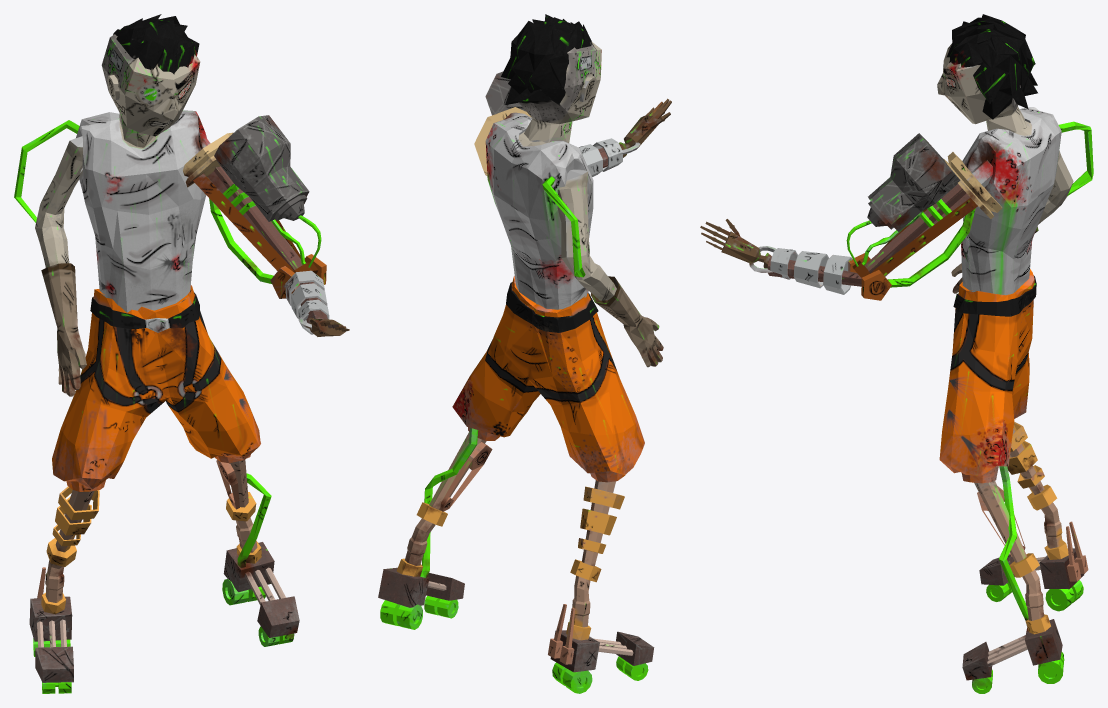
File: CyborgFINALAnimation_000032.obj
The picture shows the model from 3 angles, left to right: view 1: azimuth 30°, elevation 25°; view 2: azimuth 150°, elevation 25°; view 3: azimuth 270°, elevation 25°; orthographic projection. The views are drawn at different scales.
Parts seen in each view (by area): view 1: CyborgMesh_Cube.002; view 2: CyborgMesh_Cube.002; view 3: CyborgMesh_Cube.002.
Boxes of the visible parts, <box> form: CyborgMesh_Cube.002: <box>14,14,349,693</box>; CyborgMesh_Cube.002: <box>378,14,671,693</box>; CyborgMesh_Cube.002: <box>700,14,1093,693</box>.
Size of the model in its own units: 3.86 by 9.61 by 5.55.
